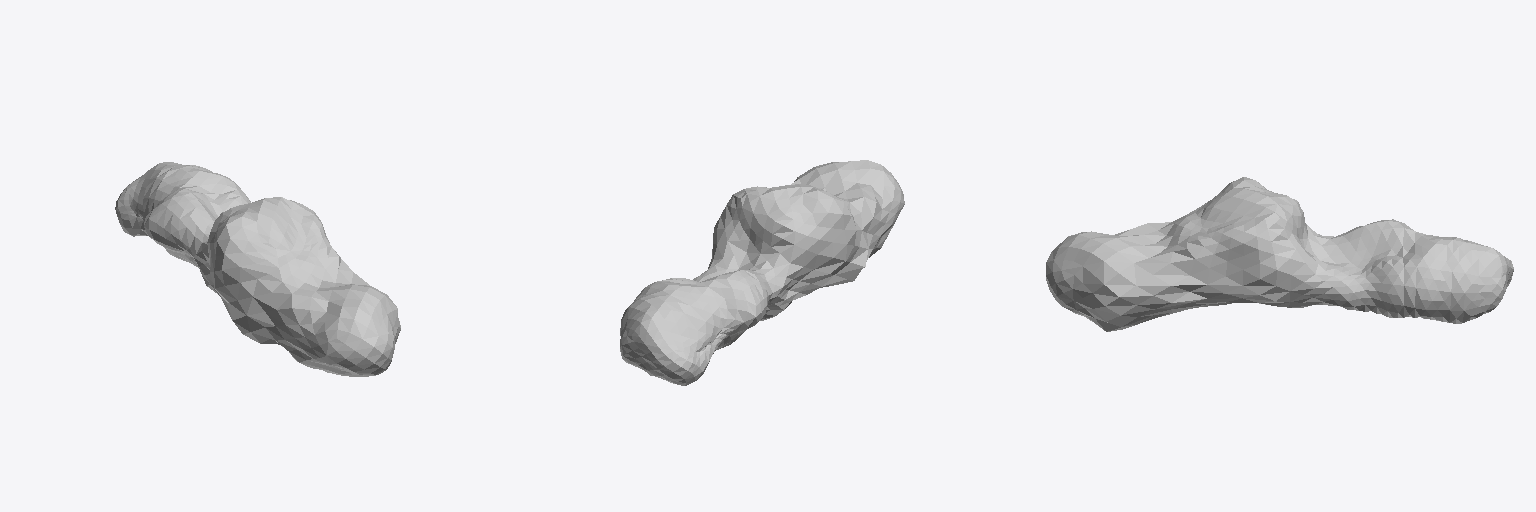
File: CloudSmall3.obj
3 views of the same model, side by side, from view 1: azimuth 30°, elevation 25°; view 2: azimuth 150°, elevation 25°; view 3: azimuth 270°, elevation 25° (orthographic).
Parts seen in each view (by area): view 1: Cloud_Small_3; view 2: Cloud_Small_3; view 3: Cloud_Small_3.
Boxes of the visible parts, x1=… form: Cloud_Small_3: x1=115, y1=162, x2=400, y2=376; Cloud_Small_3: x1=620, y1=160, x2=904, y2=385; Cloud_Small_3: x1=1046, y1=177, x2=1513, y2=331.
Size of the model in its own units: 1.61 by 1.51 by 5.31.